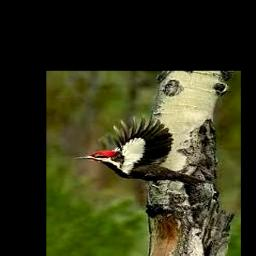Woodpecker: (74, 115, 211, 188)
